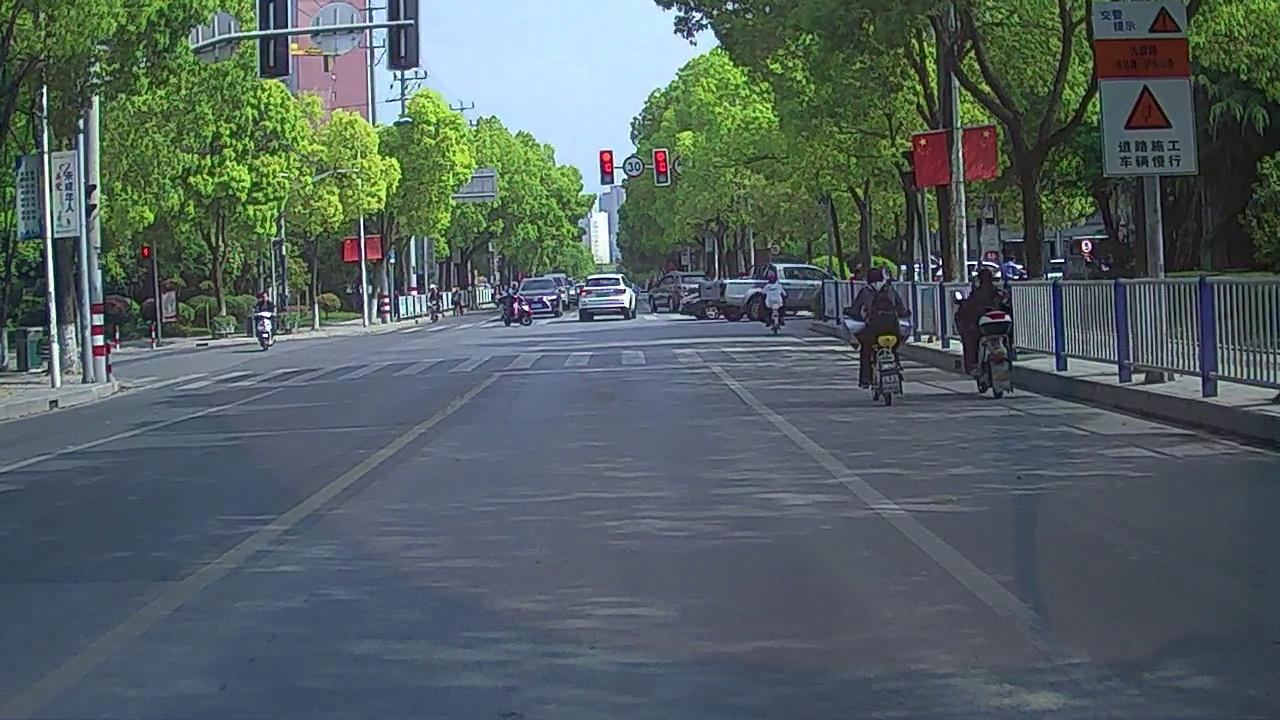traffic_light: (654, 149, 669, 184), (600, 150, 614, 184)
